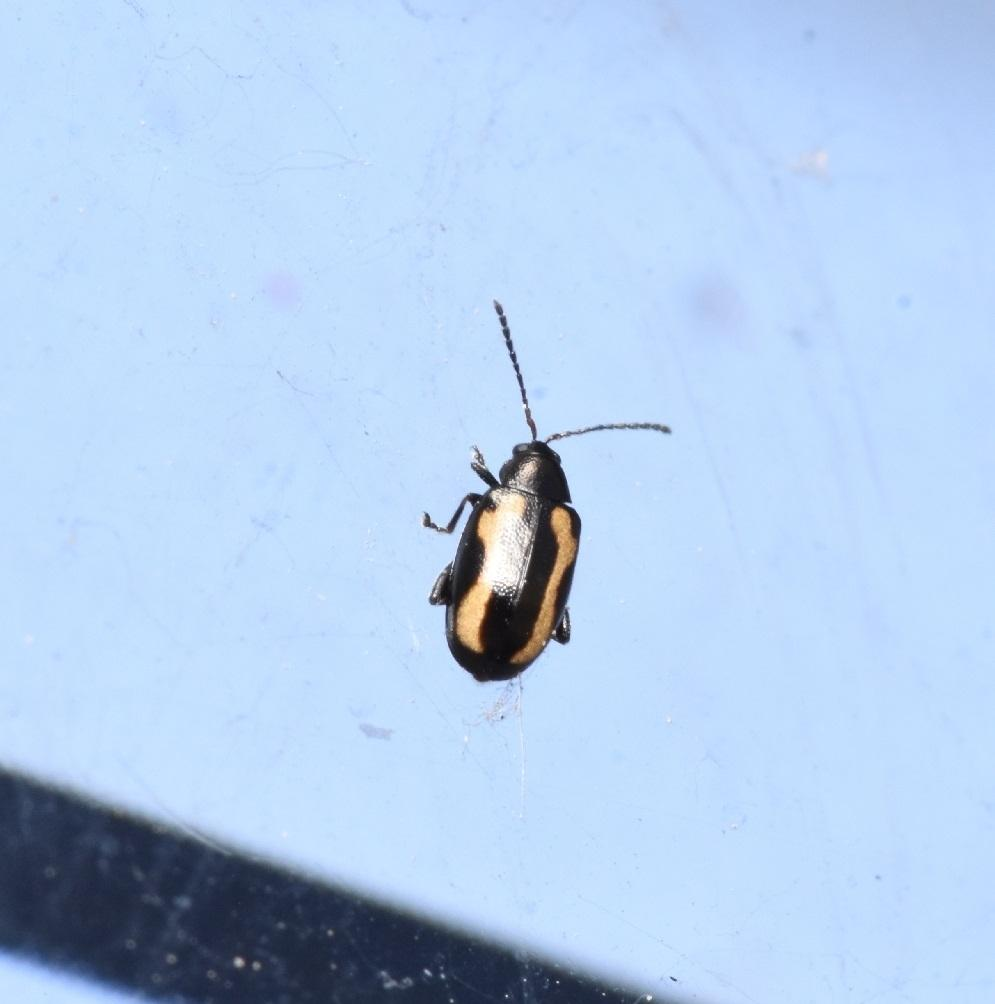flea_beetle: (368, 253, 710, 765)
